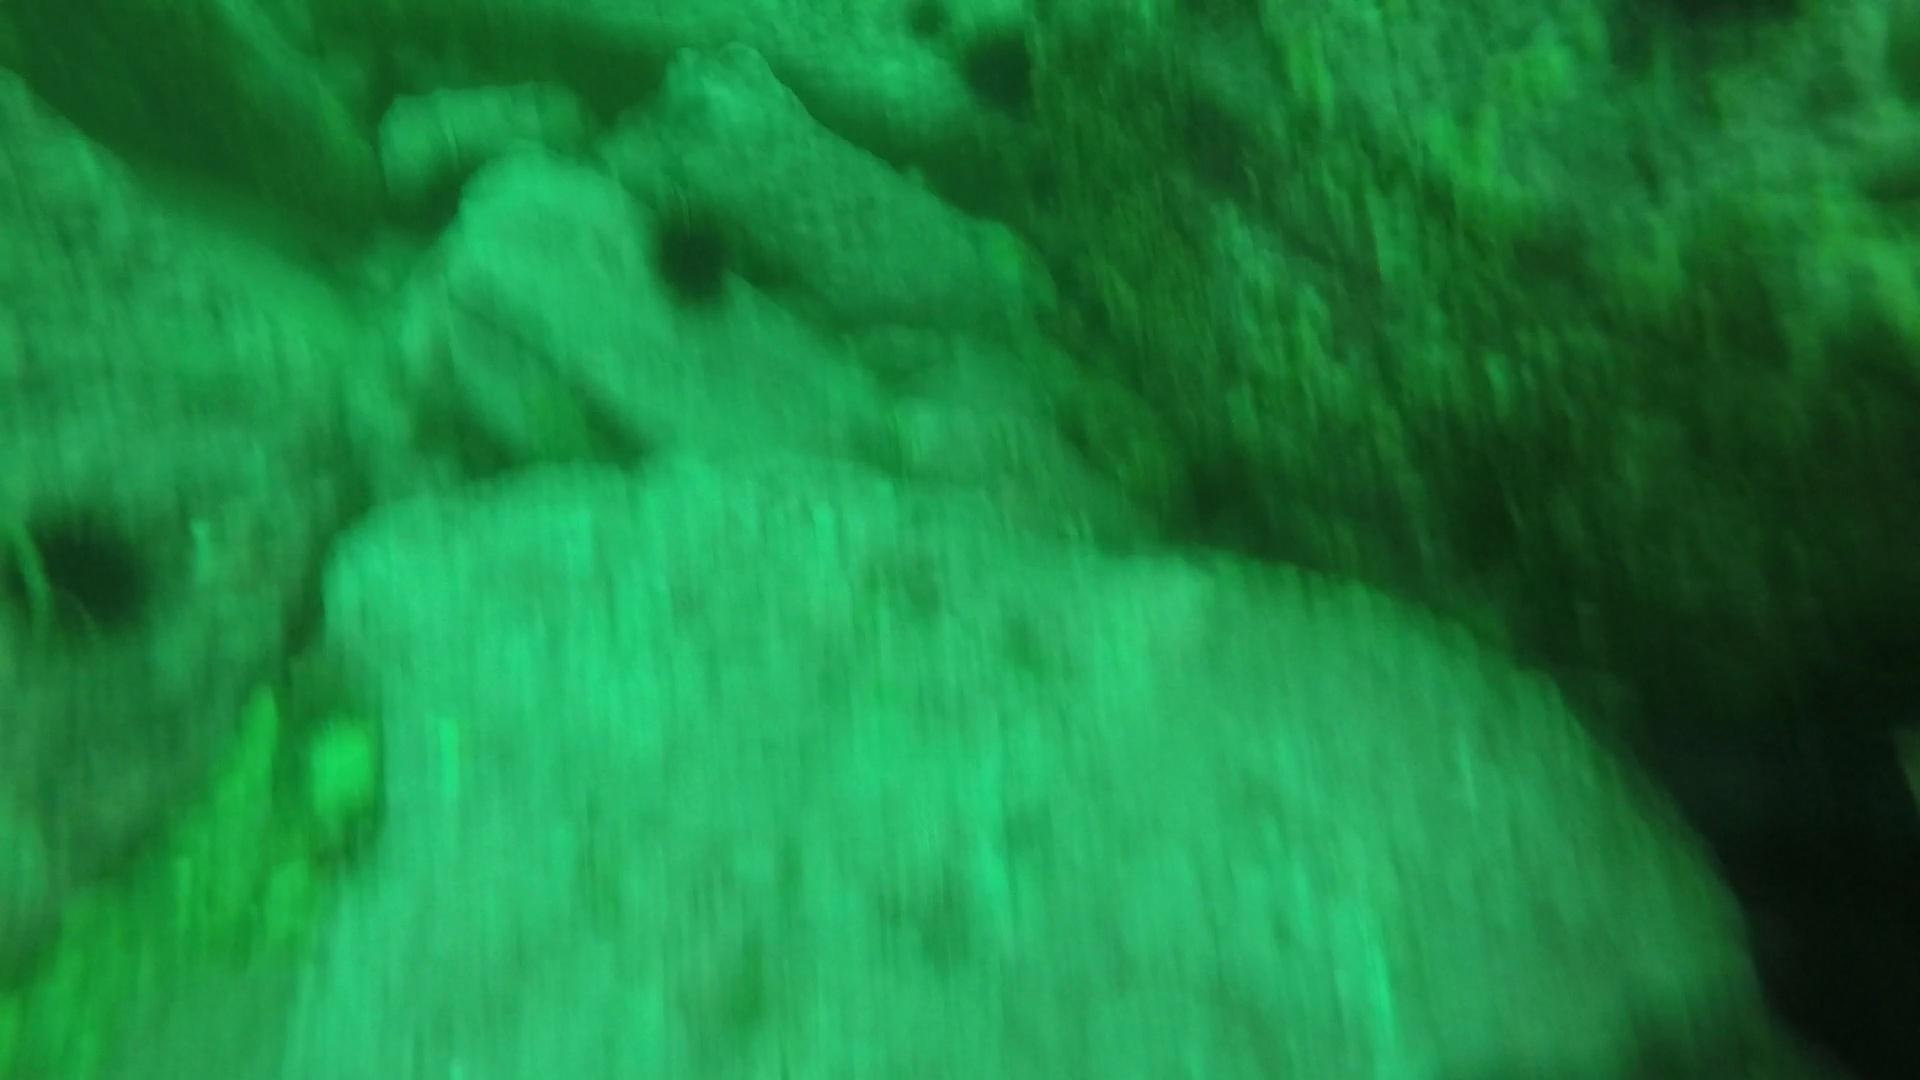echinus: (11, 496, 164, 640), (636, 196, 750, 316), (948, 25, 1048, 119)
